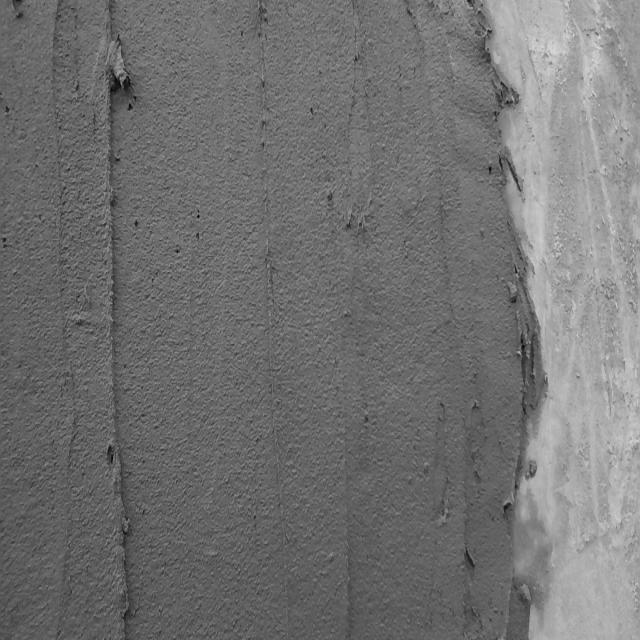trowels marks: (95, 4, 132, 637), (253, 1, 287, 640), (50, 13, 80, 374), (334, 398, 356, 640)
